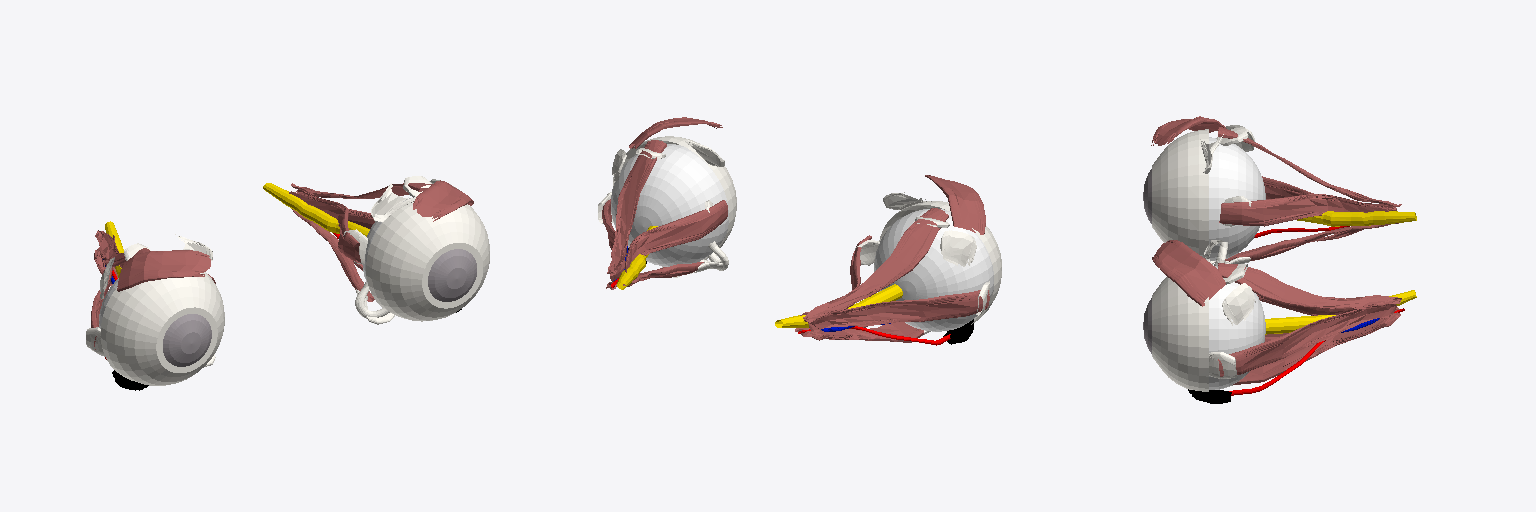
File: eyes.obj
The picture shows the model from 3 angles: view 1: azimuth 30°, elevation 25°; view 2: azimuth 150°, elevation 25°; view 3: azimuth 270°, elevation 25°; orthographic projection.
Visible parts, largest first — view 1: oculi.oute_trochlea, oculi.horn_horn, oculi.m5_muscles, oculi.liga_trochlea, oculi.rim_trochlea, oculi.nerv_nerve, oculi.m_muscles, oculi.m3_muscles, oculi.m1_muscles, oculi.m4_muscles; view 2: oculi.left_in, oculi.m_muscles, oculi.m4_muscles, oculi.liga_trochlea, oculi.m3_muscles, oculi.oute_trochlea, oculi.m5_muscles, oculi.nerv_nerve, oculi.m2_muscles, oculi.m1_muscles; view 3: oculi.oute_trochlea, oculi.left_in, oculi.m4_muscles, oculi.m3_muscles, oculi.m5_muscles, oculi.m_muscles, oculi.liga_trochlea, oculi.nerv_nerve, oculi.m2_muscles, oculi.m1_muscles, oculi.arte_arteria, oculi.horn_horn.
Part boxes in pixels (left/top/right/bottom): oculi.oute_trochlea: left=101, top=196, right=489, bottom=385; oculi.horn_horn: left=163, top=249, right=476, bottom=366; oculi.m5_muscles: left=117, top=180, right=473, bottom=291; oculi.liga_trochlea: left=86, top=176, right=458, bottom=366; oculi.rim_trochlea: left=156, top=243, right=482, bottom=372; oculi.nerv_nerve: left=105, top=183, right=369, bottom=277; oculi.m_muscles: left=95, top=183, right=432, bottom=266; oculi.m3_muscles: left=113, top=191, right=360, bottom=283; oculi.m1_muscles: left=292, top=209, right=374, bottom=301; oculi.m4_muscles: left=91, top=189, right=374, bottom=349; oculi.left_in: left=611, top=144, right=993, bottom=331; oculi.m_muscles: left=607, top=140, right=948, bottom=322; oculi.m4_muscles: left=602, top=199, right=989, bottom=331; oculi.liga_trochlea: left=598, top=140, right=989, bottom=335; oculi.m3_muscles: left=625, top=200, right=871, bottom=315; oculi.oute_trochlea: left=613, top=136, right=1001, bottom=324; oculi.m5_muscles: left=629, top=117, right=985, bottom=234; oculi.nerv_nerve: left=617, top=226, right=902, bottom=327; oculi.m2_muscles: left=606, top=267, right=923, bottom=342; oculi.m1_muscles: left=623, top=262, right=867, bottom=331; oculi.oute_trochlea: left=1152, top=129, right=1208, bottom=391; oculi.left_in: left=1209, top=137, right=1265, bottom=389; oculi.m4_muscles: left=1218, top=176, right=1396, bottom=376; oculi.m3_muscles: left=1219, top=194, right=1388, bottom=315; oculi.m5_muscles: left=1151, top=116, right=1225, bottom=306; oculi.m_muscles: left=1218, top=127, right=1401, bottom=308; oculi.liga_trochlea: left=1200, top=125, right=1255, bottom=385; oculi.nerv_nerve: left=1265, top=211, right=1416, bottom=334; oculi.m2_muscles: left=1225, top=229, right=1400, bottom=384; oculi.m1_muscles: left=1234, top=223, right=1399, bottom=341; oculi.arte_arteria: left=1229, top=226, right=1404, bottom=395; oculi.horn_horn: left=1143, top=169, right=1151, bottom=353.
Bounding box in the file's own units: 8.85 × 3.06 × 5.44.